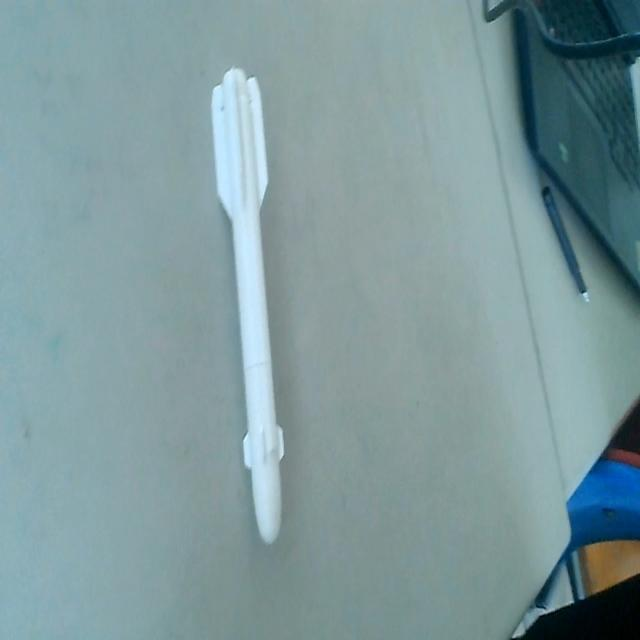Rocket: (211, 62, 285, 550)
